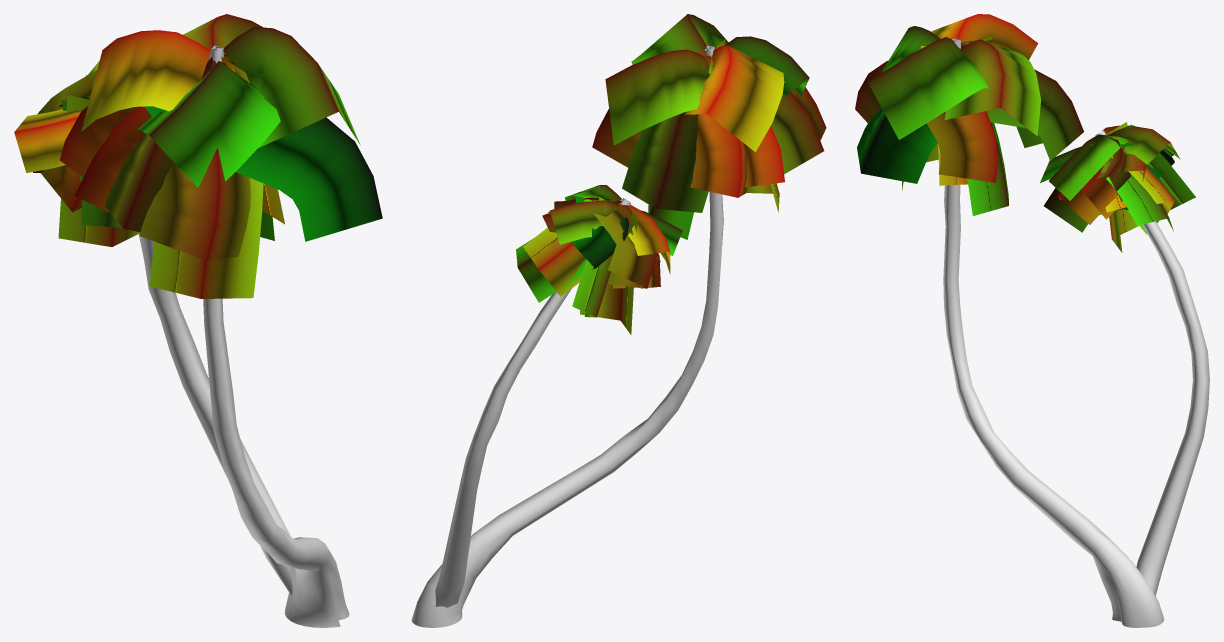
Rendered from Type_7_Tree_3.fbx.
The picture shows the model from 3 angles, left to right: view 1: azimuth 30°, elevation 25°; view 2: azimuth 150°, elevation 25°; view 3: azimuth 270°, elevation 25°; orthographic projection. The views are drawn at different scales.
Visible parts, largest first — view 1: Leaf, Trunk; view 2: Leaf, Trunk; view 3: Leaf, Trunk.
Boxes of the visible parts, x1,y1,x2,y2 form: Leaf: (14,14,382,298); Trunk: (138,45,349,627); Leaf: (516,14,826,334); Trunk: (411,46,723,627); Leaf: (855,14,1195,252); Trunk: (943,38,1209,627).
Bounding box in the file's own units: 1100 × 2061 × 1277.
